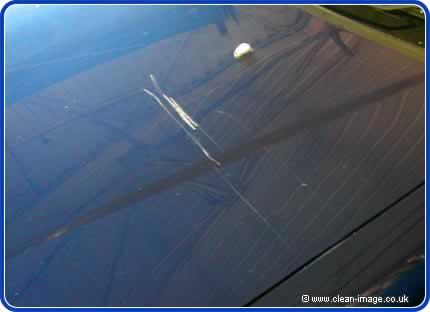scratch: (135, 57, 232, 195)
